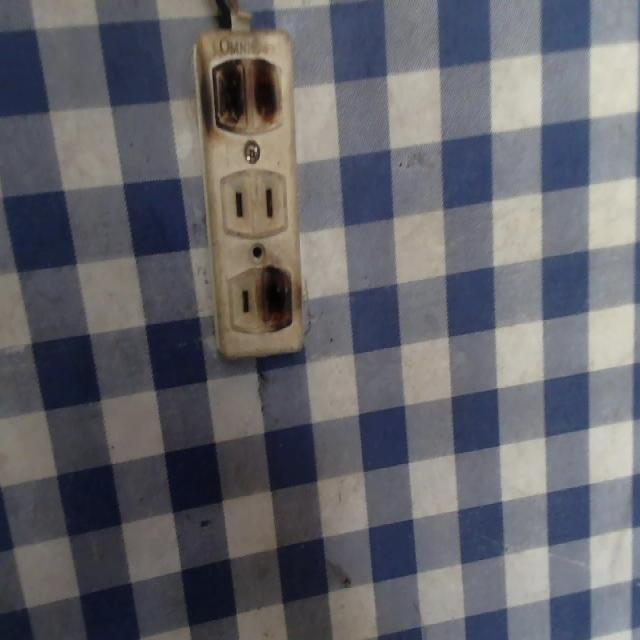-: (205, 52, 287, 139), (254, 260, 300, 345)
